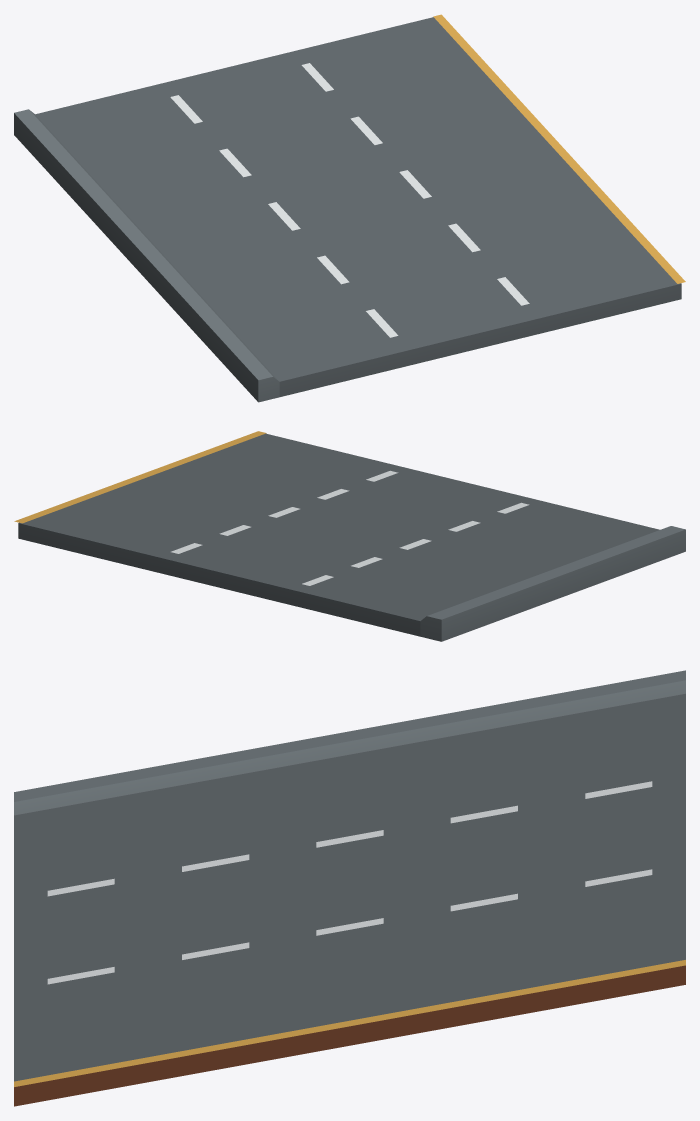
The model's file is road_3_lanes_straight_slope_1.glb.
The picture shows the model from 3 angles, top to bottom: view 1: azimuth 30°, elevation 25°; view 2: azimuth 150°, elevation 25°; view 3: azimuth 270°, elevation 25°; orthographic projection. The views are drawn at different scales.
Visible parts, largest first — view 1: road_straight.002; view 2: road_straight.002; view 3: road_straight.002.
Part boxes in pixels (x1,y1,x2,y2): road_straight.002: [14, 14, 685, 402]; road_straight.002: [14, 431, 685, 641]; road_straight.002: [14, 670, 685, 1106].
Size of the model in its own units: 10.1 by 2.5 by 10.
1 material, 1 textured.
